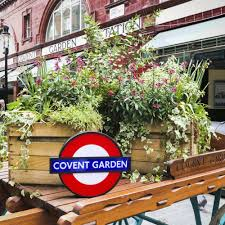London Underground: (50, 131, 129, 197)
